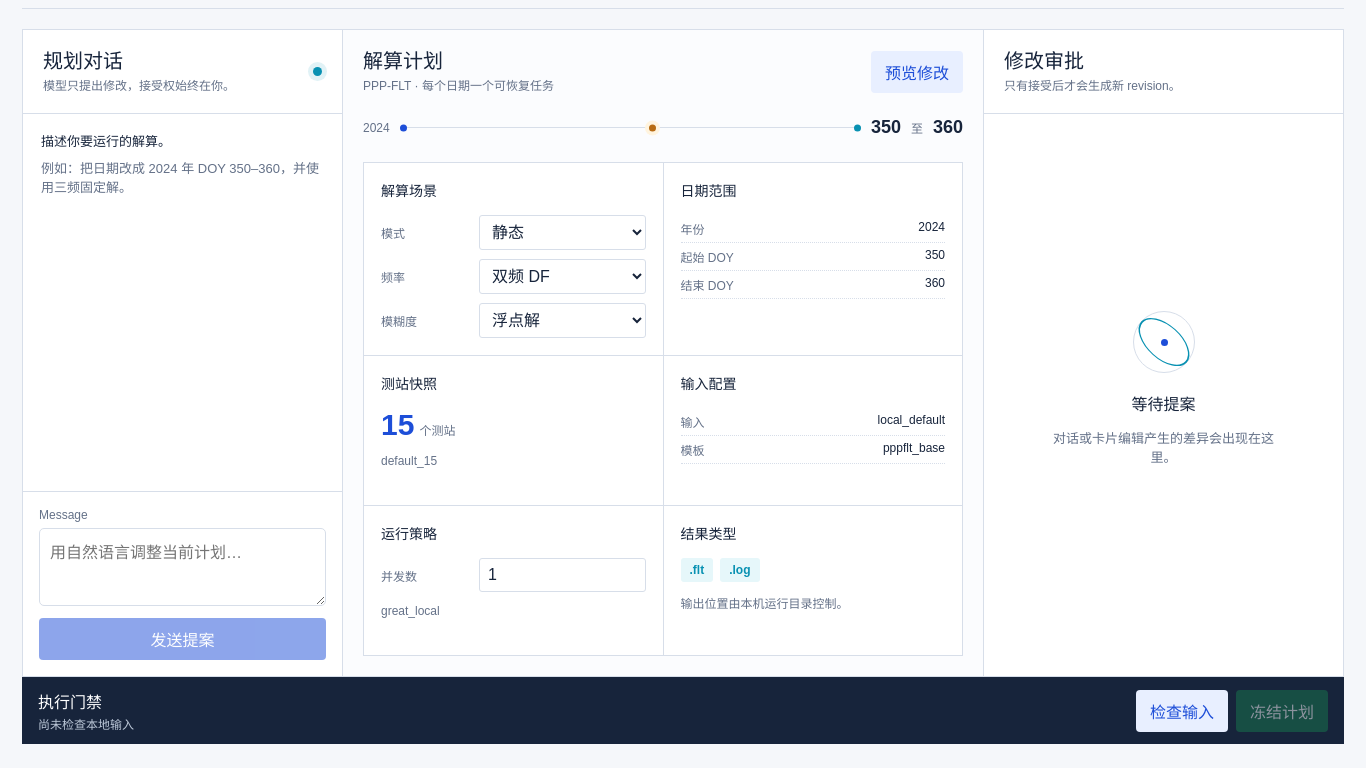
it: ExperimentWorkspace › keeps freeze disabled while validation fails
(page scrolled)
Click the button "检查输入": (1182, 710) [1136,690,1228,732]
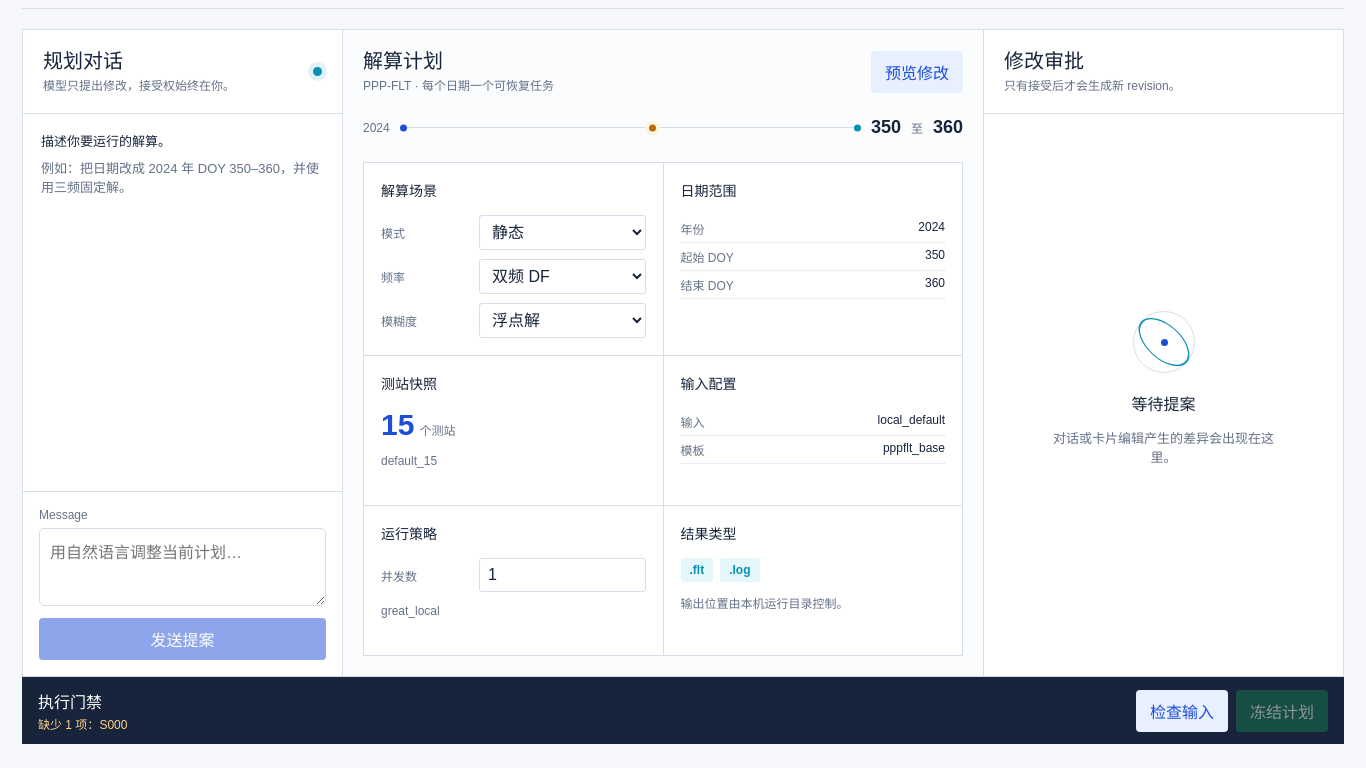
expect the button "冻结计划" is disabled: met, box [1236,690,1328,732]
expect the text "缺少 1 项：S000" is shown: met, box [38,715,127,732]
